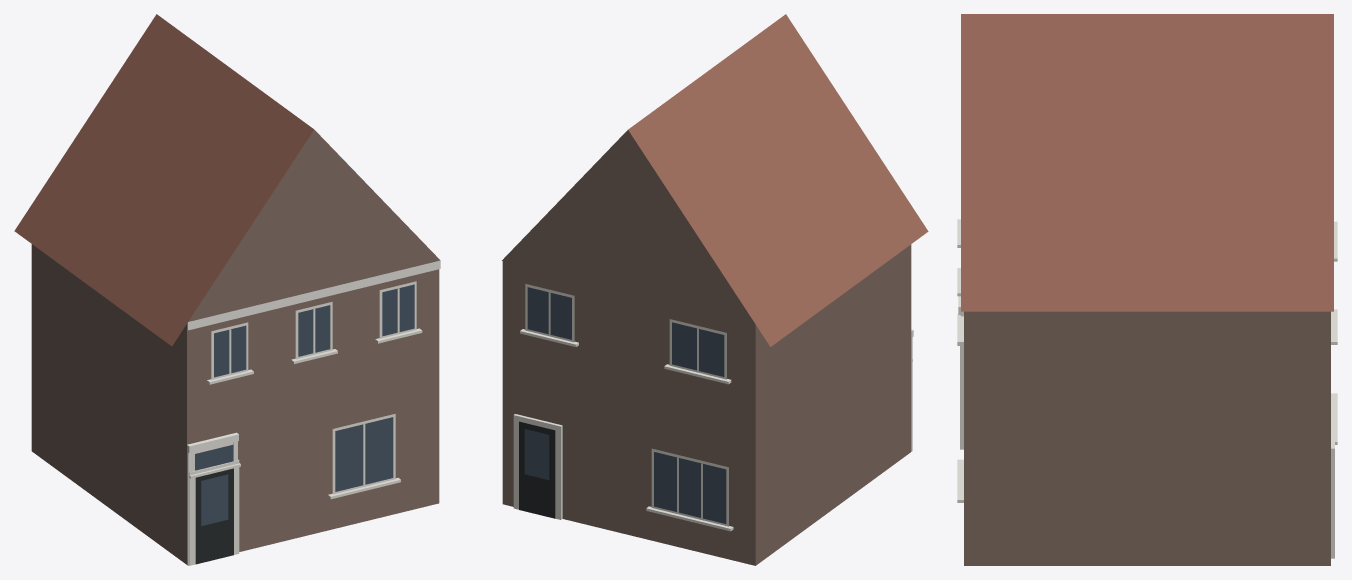
File: nn-row-small__small-grey__2__gable__short__solid.glb
The picture shows the model from 3 angles, left to right: view 1: azimuth 30°, elevation 25°; view 2: azimuth 150°, elevation 25°; view 3: azimuth 270°, elevation 25°; orthographic projection. The views are drawn at different scales.
Visible parts, largest first — view 1: nn-row-small__small-grey__2__gable__short__solid; view 2: nn-row-small__small-grey__2__gable__short__solid; view 3: nn-row-small__small-grey__2__gable__short__solid.
Part boxes in pixels (<box>): nn-row-small__small-grey__2__gable__short__solid: <box>14,14,440,565</box>; nn-row-small__small-grey__2__gable__short__solid: <box>502,14,928,565</box>; nn-row-small__small-grey__2__gable__short__solid: <box>957,14,1337,565</box>.
Bounding box in the file's own units: 7.09 × 9.65 × 6.94.
